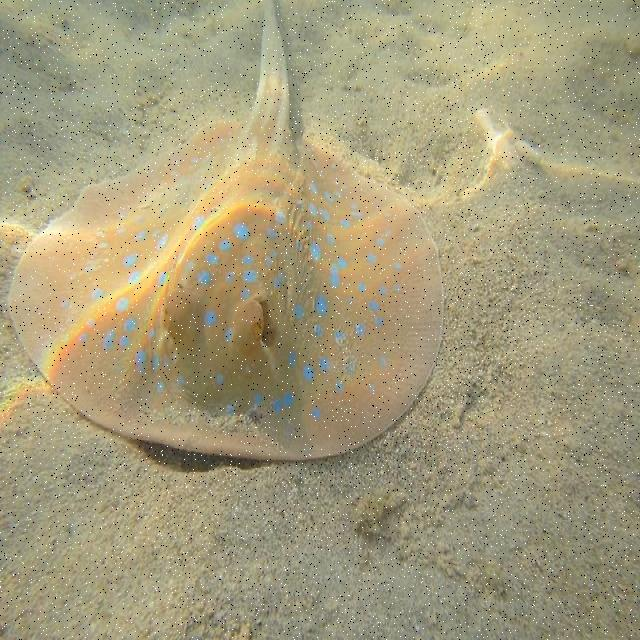fish: (7, 1, 444, 462)
